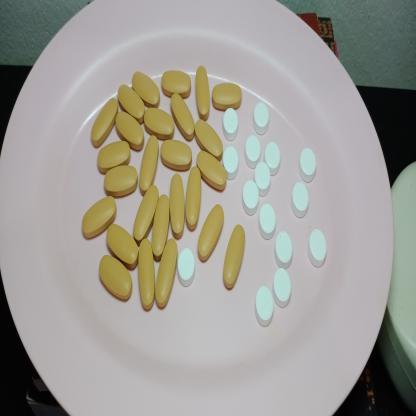Paracetamol: (252, 285, 275, 328), (176, 244, 197, 291), (308, 227, 328, 270), (297, 144, 318, 184), (272, 267, 292, 308), (289, 180, 310, 218), (240, 178, 260, 216), (257, 203, 277, 240), (221, 143, 240, 181), (274, 230, 293, 266), (264, 138, 283, 174), (253, 160, 272, 196), (252, 100, 270, 136), (221, 106, 239, 141), (243, 134, 262, 166)
VitaminB: (220, 219, 246, 298), (97, 250, 133, 306), (197, 198, 225, 267), (154, 236, 179, 312), (80, 194, 118, 241), (132, 181, 159, 247), (136, 233, 157, 314), (106, 219, 139, 270), (90, 92, 119, 147), (169, 90, 196, 147), (102, 159, 139, 200), (151, 188, 171, 260), (130, 67, 162, 112), (196, 150, 228, 194), (194, 116, 225, 160), (140, 133, 160, 199), (96, 138, 132, 174), (114, 108, 144, 151), (169, 169, 187, 238), (116, 84, 147, 124), (144, 104, 176, 142), (161, 138, 193, 176), (160, 66, 192, 103), (186, 164, 203, 233), (212, 80, 244, 115), (194, 60, 212, 122)
